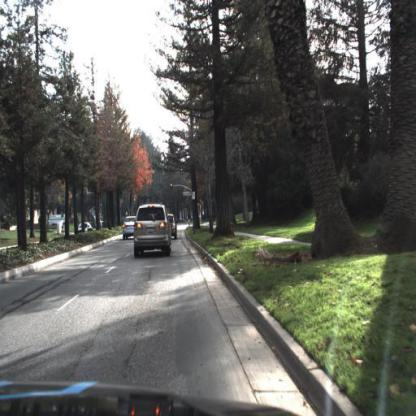car: (132, 200, 177, 263), (123, 216, 137, 242), (169, 212, 179, 238), (80, 224, 94, 234)
trafficLight-Red: (171, 183, 175, 191)
